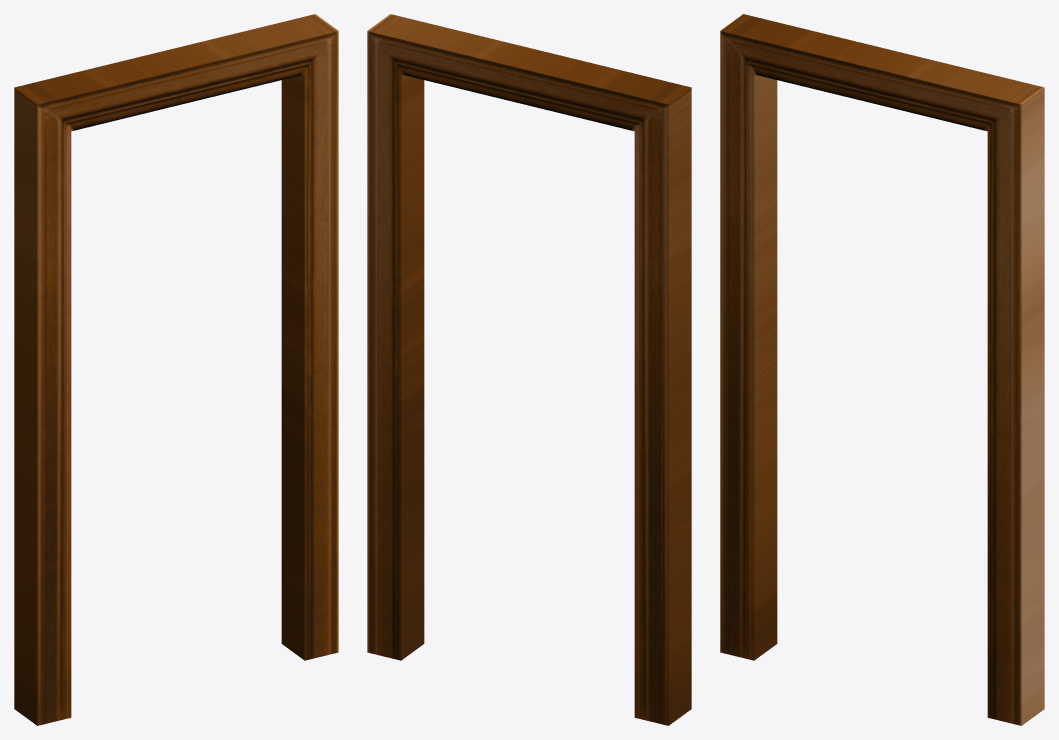
File: Door_A_Frame.fbx
The picture shows the model from 3 angles, left to right: view 1: azimuth 30°, elevation 25°; view 2: azimuth 150°, elevation 25°; view 3: azimuth 330°, elevation 25°; orthographic projection.
Parts seen in each view (by area): view 1: DootframeA; view 2: DootframeA; view 3: DootframeA.
Boxes of the visible parts, box(x1,y1,x2,y2) form: DootframeA: box(14, 14, 338, 725); DootframeA: box(367, 14, 691, 725); DootframeA: box(720, 14, 1044, 725).
Bounding box in the file's own units: 99.03 × 195 × 13.23.
